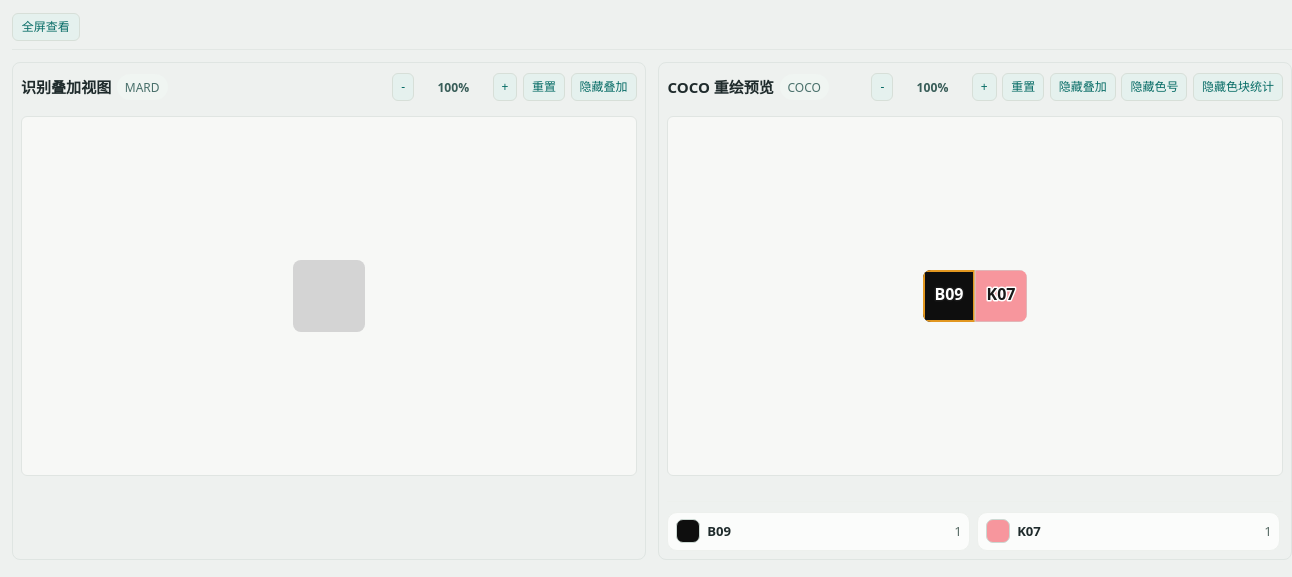
toggles target review overlays so correction frames do not cover colors
Click the button with aria-label "COCO 重绘预览 隐藏叠加" at [1083, 87], box [1050,73,1116,101]
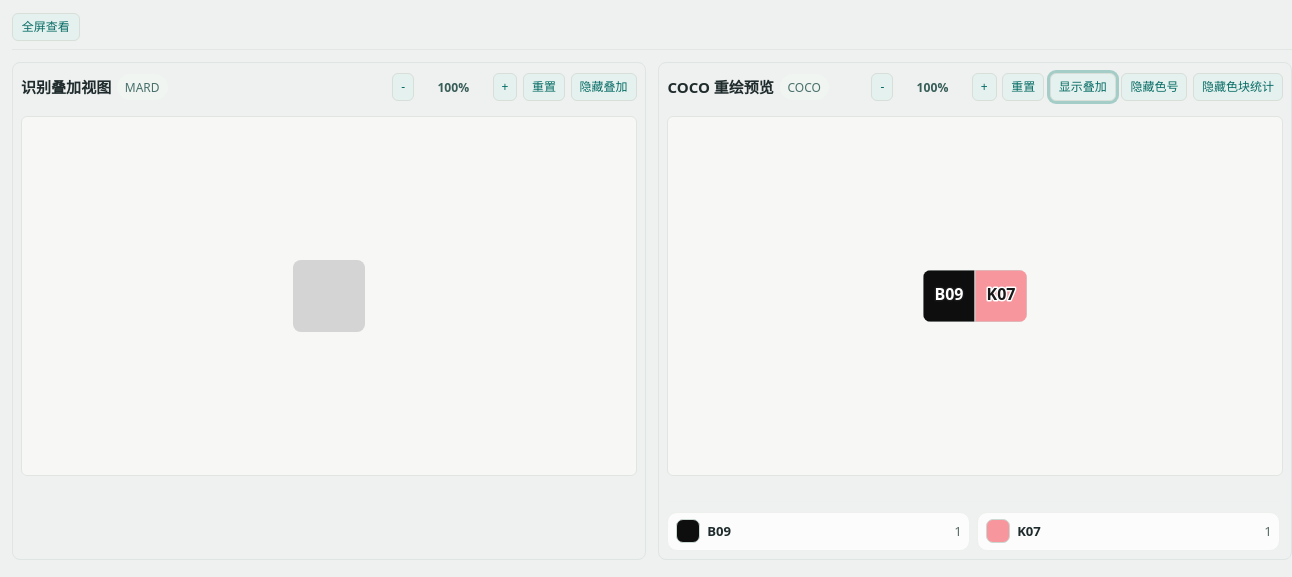
Now the button with aria-label "COCO 重绘预览 显示叠加" is shown, box [1050,73,1116,101]
